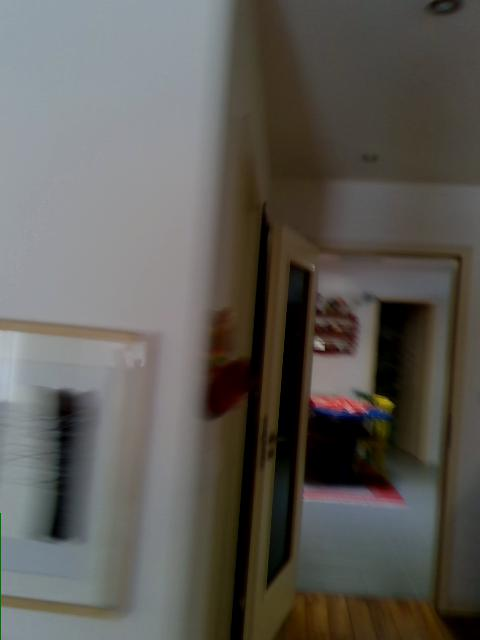open_door: (267, 240, 476, 619)
